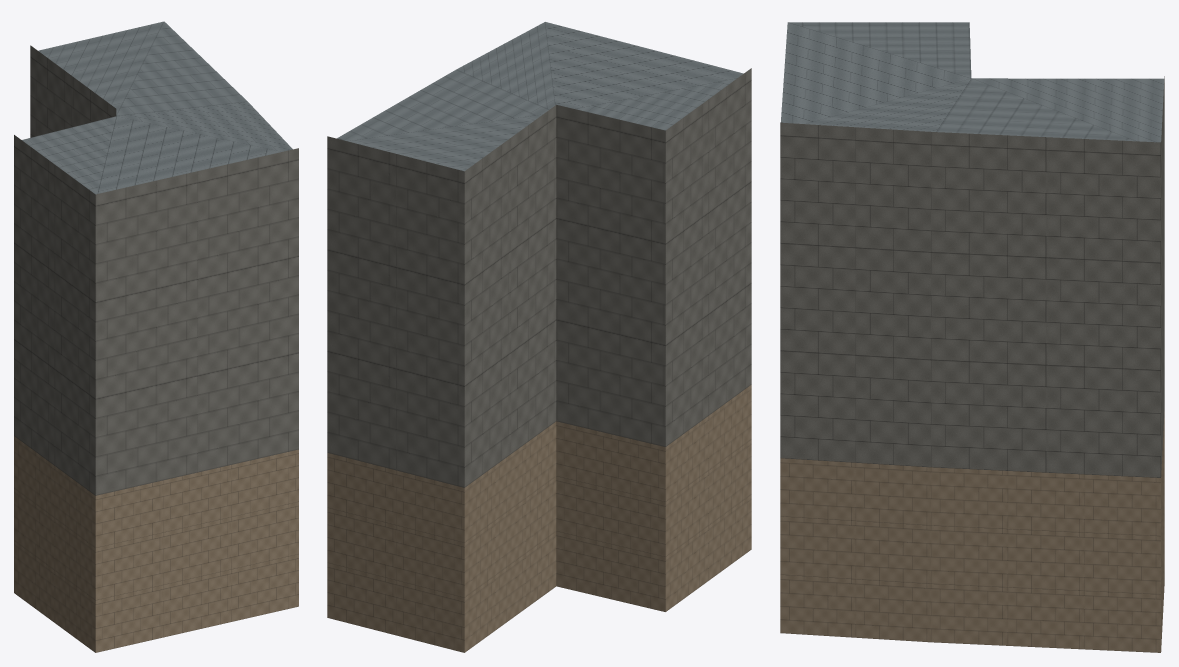
The model's file is bld_c6_9_481.gltf.
The picture shows the model from 3 angles, left to right: view 1: azimuth 30°, elevation 25°; view 2: azimuth 150°, elevation 25°; view 3: azimuth 270°, elevation 25°; orthographic projection. The views are drawn at different scales.
Visible parts, largest first — view 1: bld_c6_9_481; view 2: bld_c6_9_481; view 3: bld_c6_9_481.
Boxes of the visible parts, left/top/right/bottom form: bld_c6_9_481: left=14, top=21, right=298, bottom=652; bld_c6_9_481: left=327, top=22, right=751, bottom=652; bld_c6_9_481: left=780, top=22, right=1164, bottom=652.
Bounding box in the file's own units: 8.03 × 14.88 × 10.16.
Materials: 4 (4 with a texture image).
